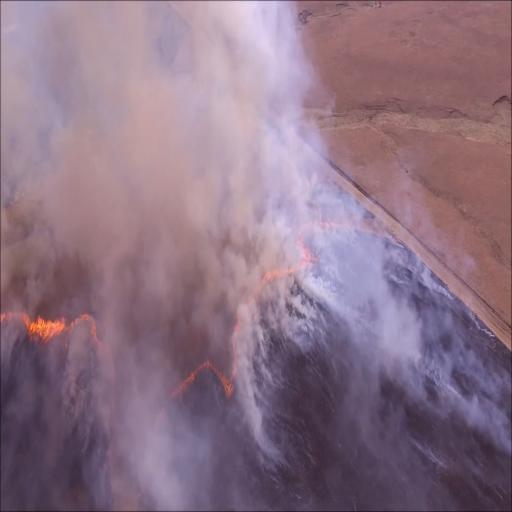fire: (24, 313, 65, 346)
smoke: (2, 5, 236, 412), (235, 2, 321, 466), (311, 218, 421, 392), (428, 327, 512, 455), (122, 415, 218, 512)
